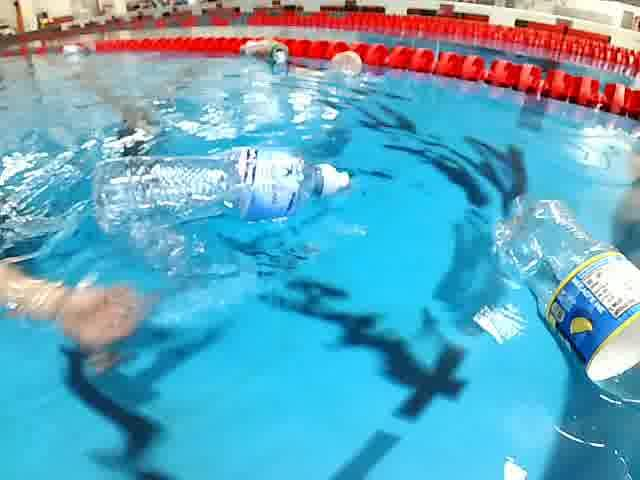Bottle: (480, 190, 640, 430), (78, 145, 354, 238), (332, 48, 366, 83)
Can: (265, 42, 294, 64)
